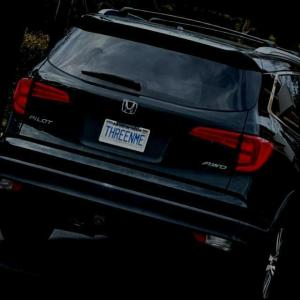Plate: (97, 117, 151, 153)
